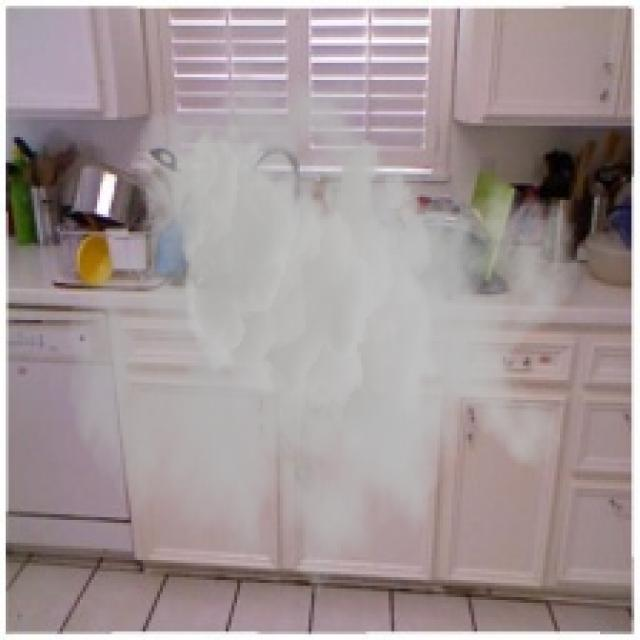Smoke: (66, 57, 583, 623)
